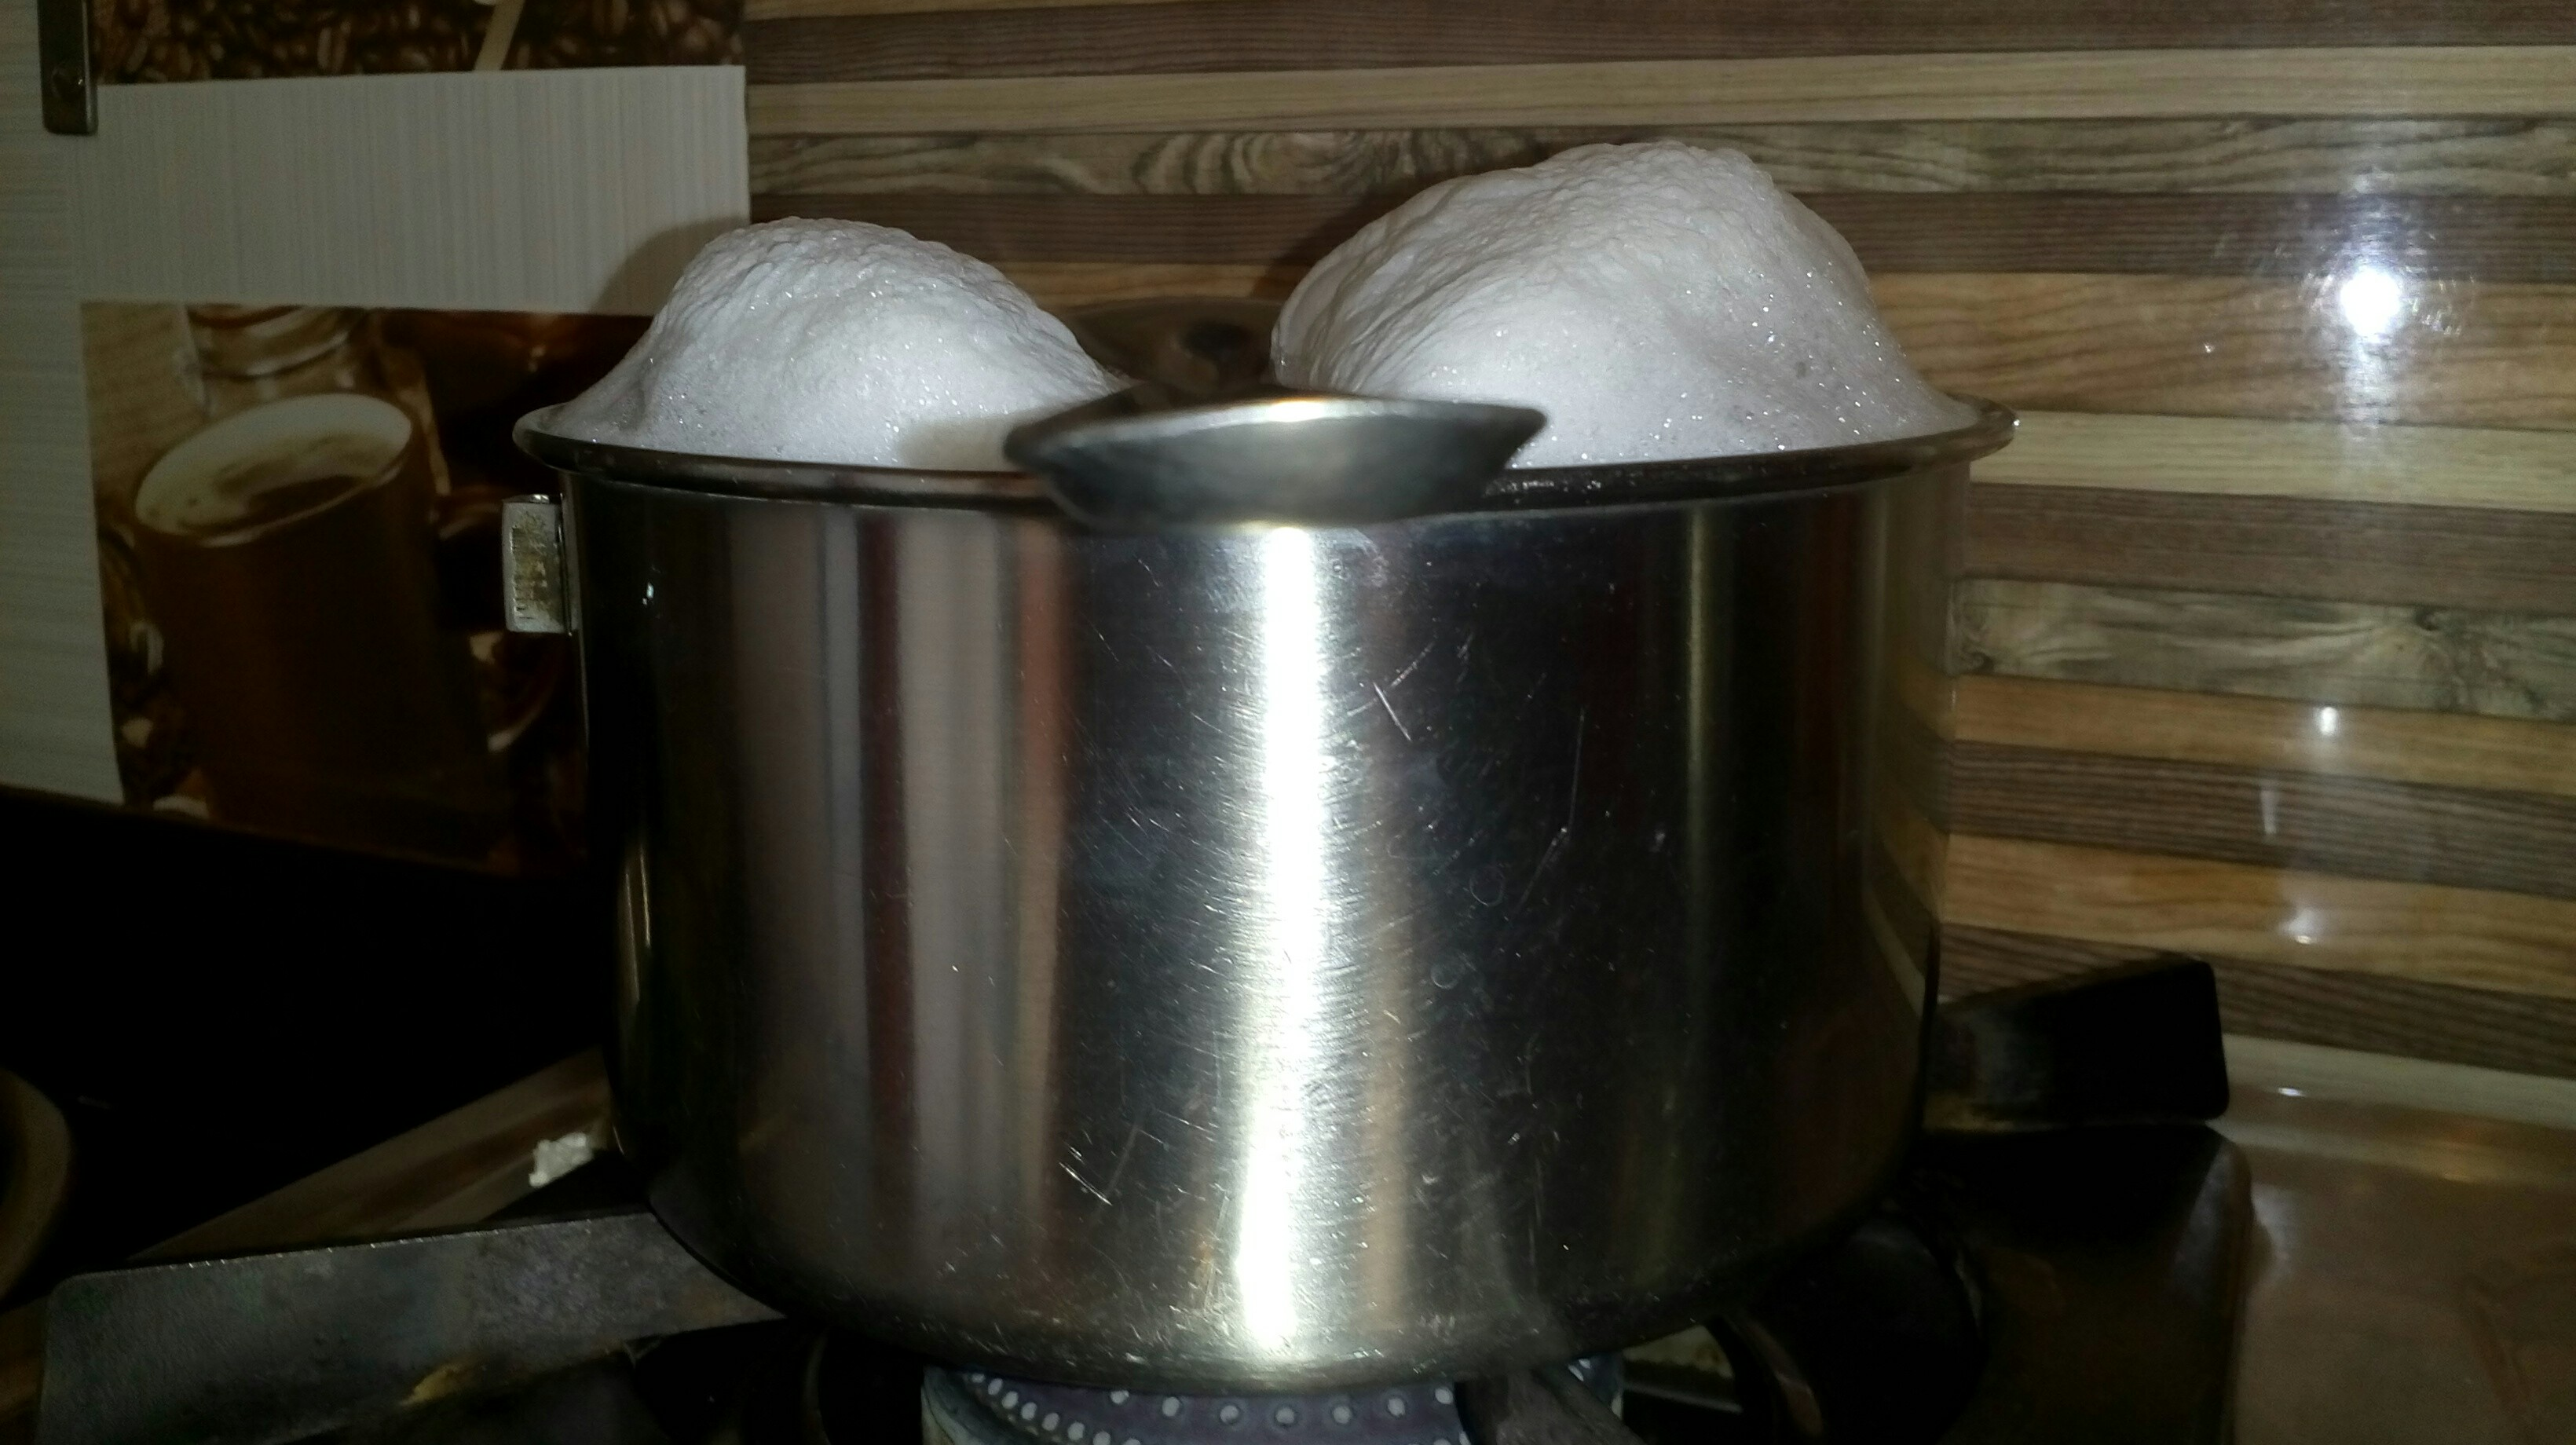Boiled: (511, 136, 2043, 906)
